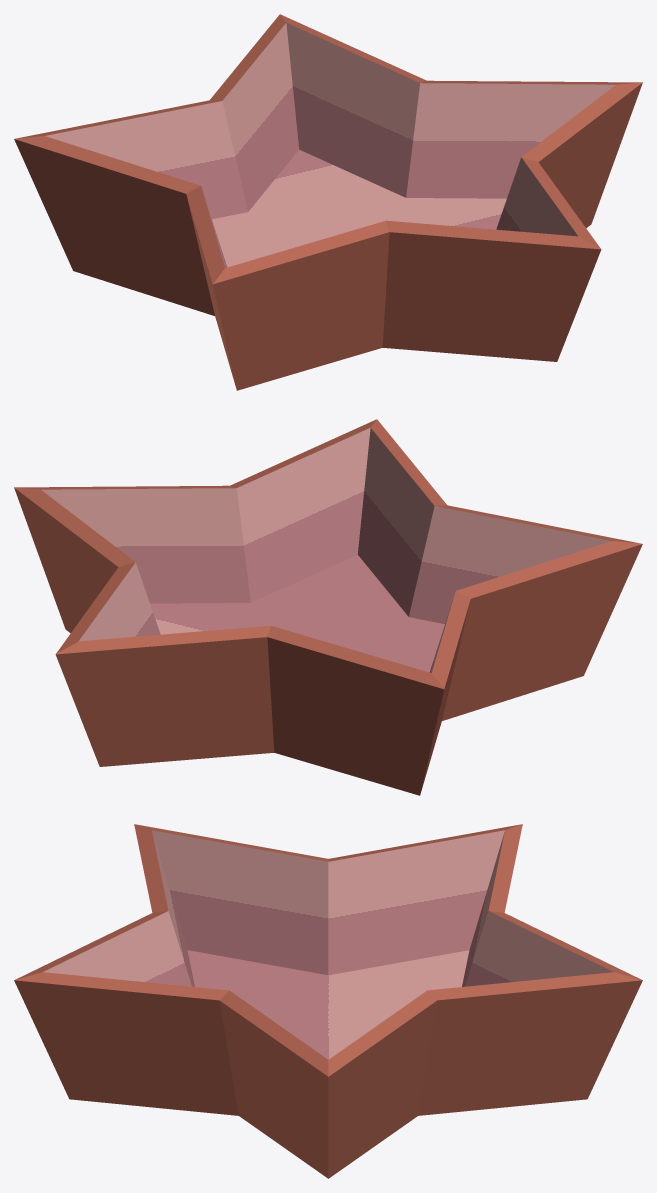
The model's file is star-mold.glb.
3 views of the same model, one above another, from view 1: azimuth 30°, elevation 25°; view 2: azimuth 150°, elevation 25°; view 3: azimuth 270°, elevation 25° (orthographic). The views are drawn at different scales.
Visible parts, largest first — view 1: star-mold; view 2: star-mold; view 3: star-mold.
Boxes of the visible parts, <box> form: star-mold: <box>14,14,642,390</box>; star-mold: <box>14,419,642,795</box>; star-mold: <box>14,824,642,1178</box>.
Size of the model in its own units: 0.2569 by 0.062 by 0.2701.
1 material, 1 textured.
